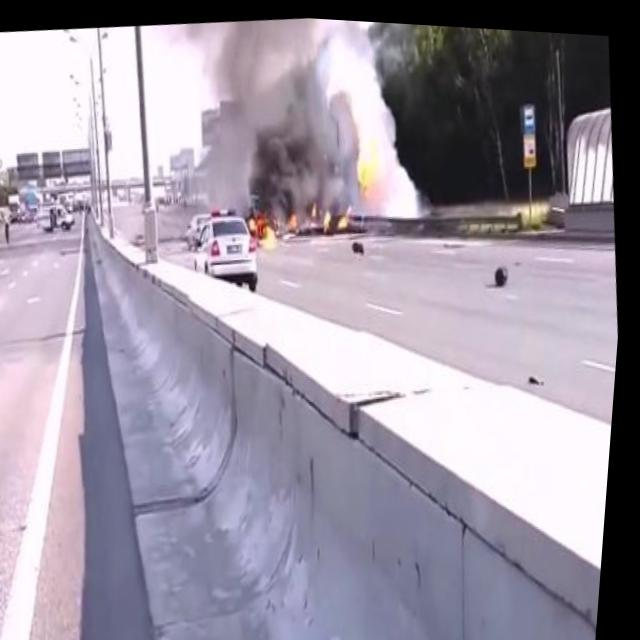fire: (248, 207, 285, 247), (310, 194, 338, 228), (337, 195, 360, 228), (287, 207, 303, 228)
